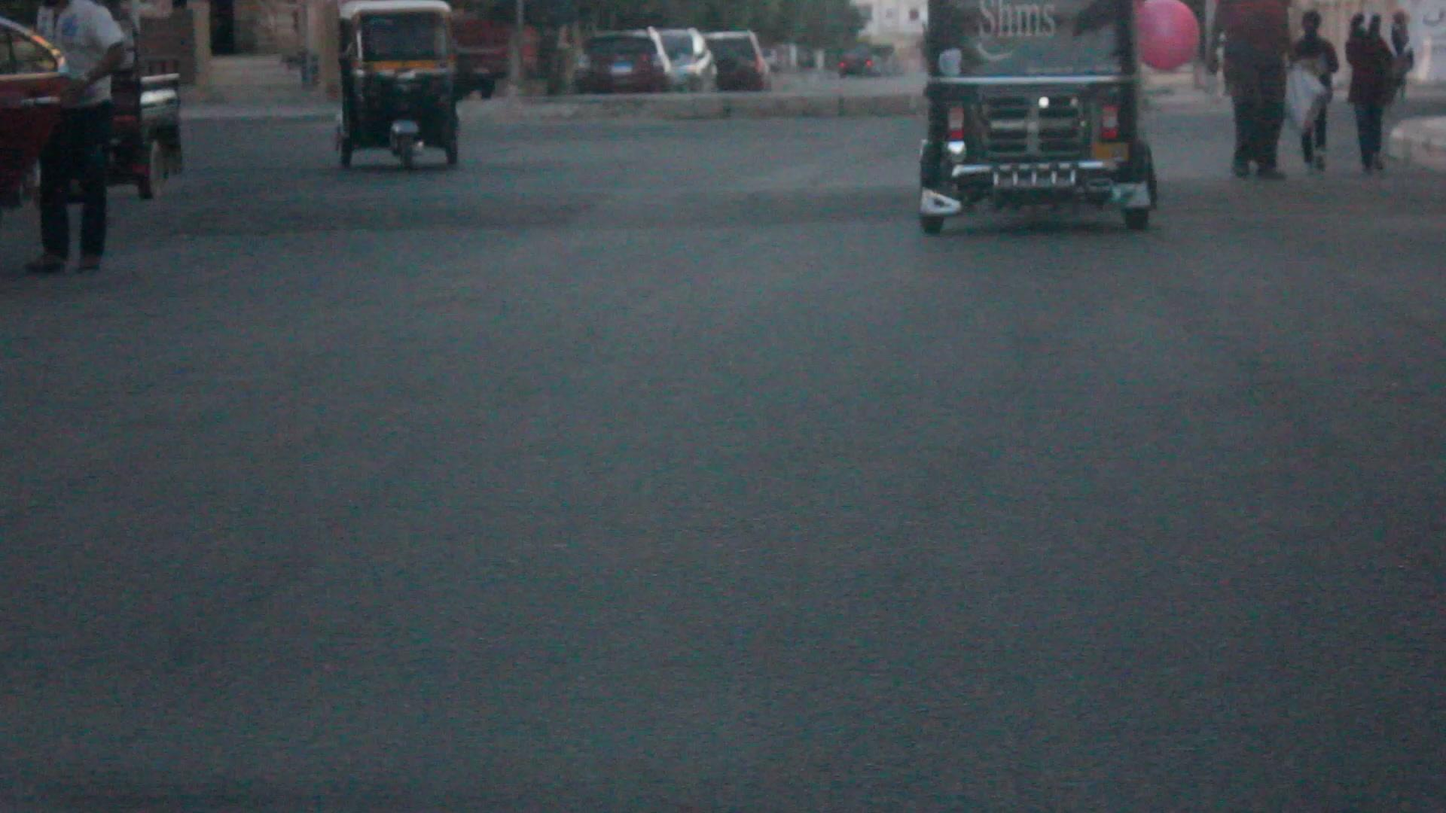Bump: (124, 179, 914, 237), (1149, 173, 1442, 234)
